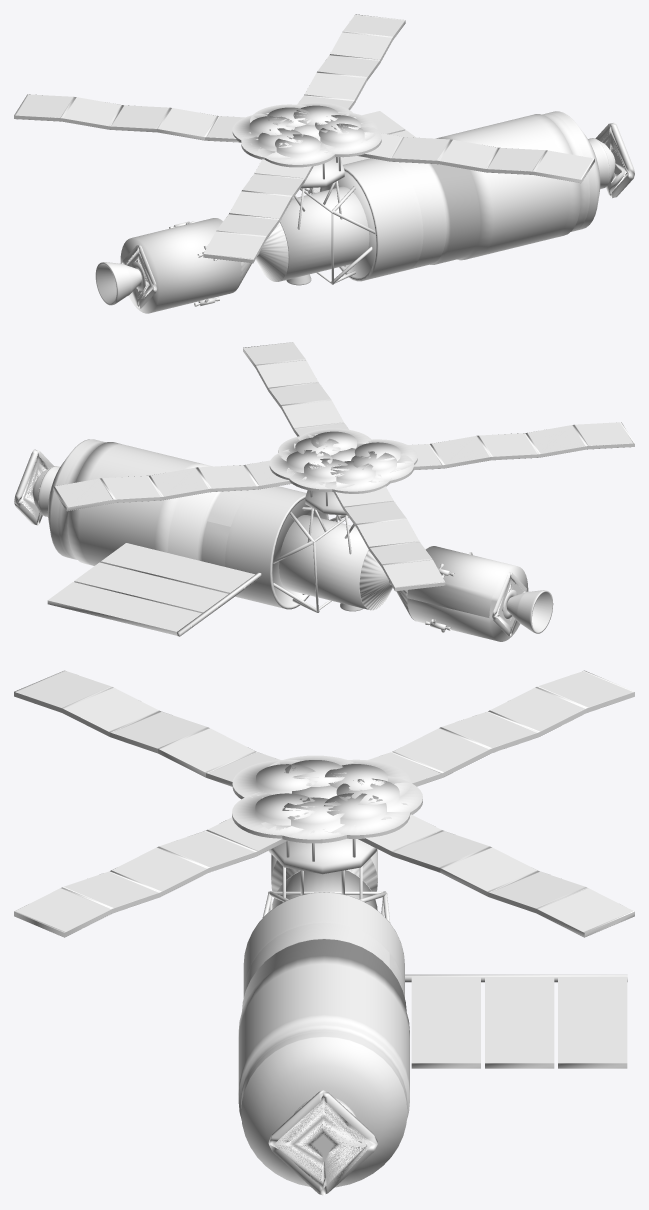
File: skylab_carbajal.obj
The picture shows the model from 3 angles, top to bottom: view 1: azimuth 30°, elevation 25°; view 2: azimuth 150°, elevation 25°; view 3: azimuth 270°, elevation 25°; orthographic projection. The views are drawn at different scales.
Size of the model in its own units: 38.74 by 11.81 by 29.85.
Materials: 16 (16 with a texture image).
